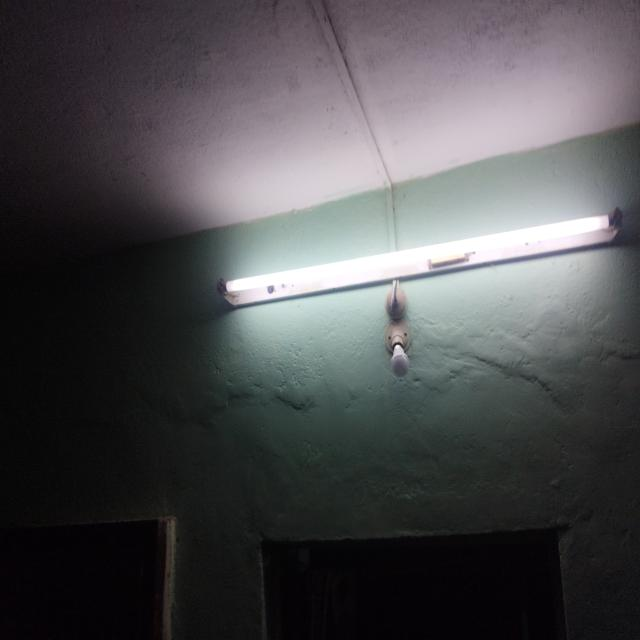tubelight_on: (217, 204, 629, 311)
